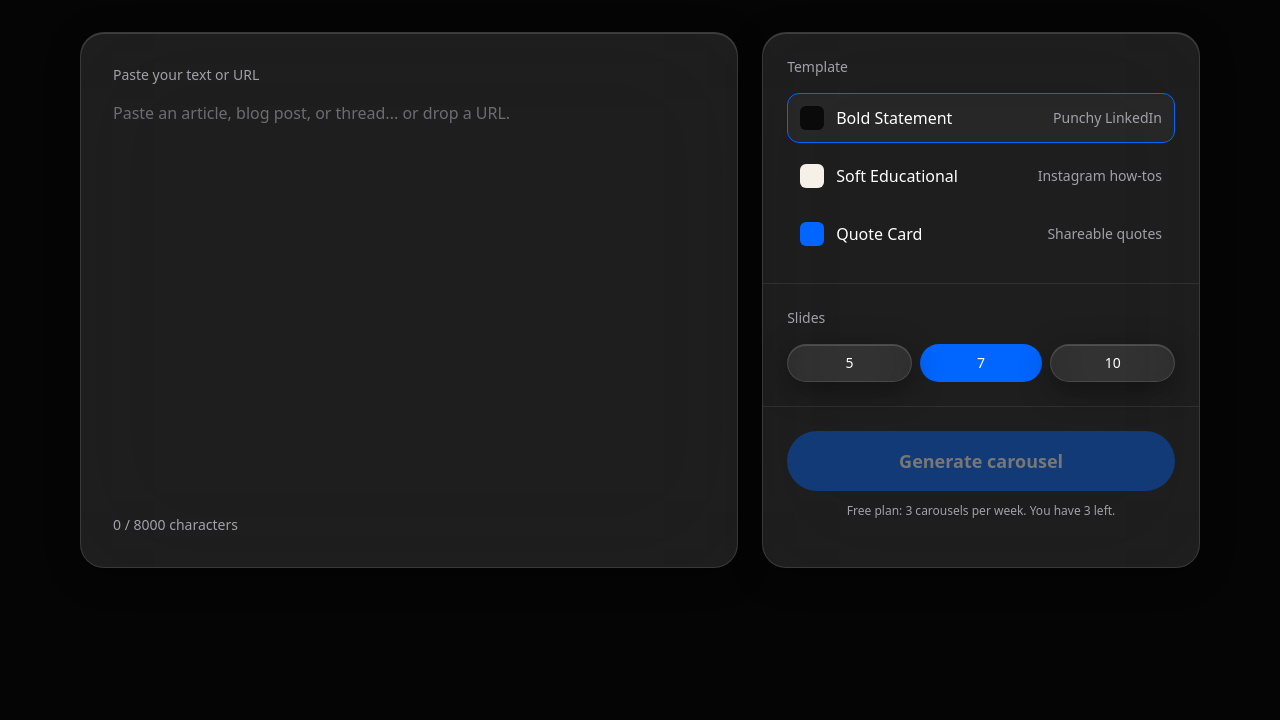
Test: Creator — /app UI wiring › Clear shows only when there's text, and empties the field
This screenshot has width=1280, height=720.
Check: the text "Clear" is not shown
Type "some text" into the text box with placeholder "Paste an article, blog post, or thread... or drop a URL." at (409, 301), box [113,101,705,501]
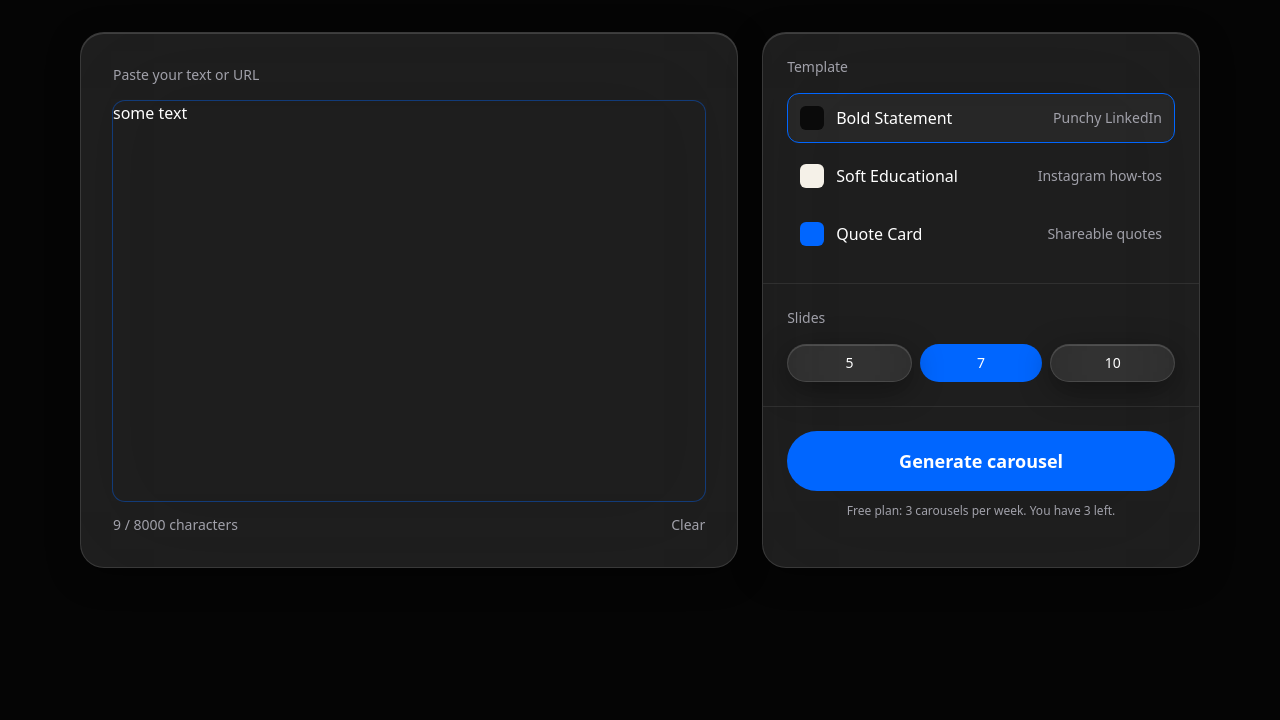
Check: the button "Clear" is shown
Click the button "Clear" at (688, 525), box [671,515,705,535]
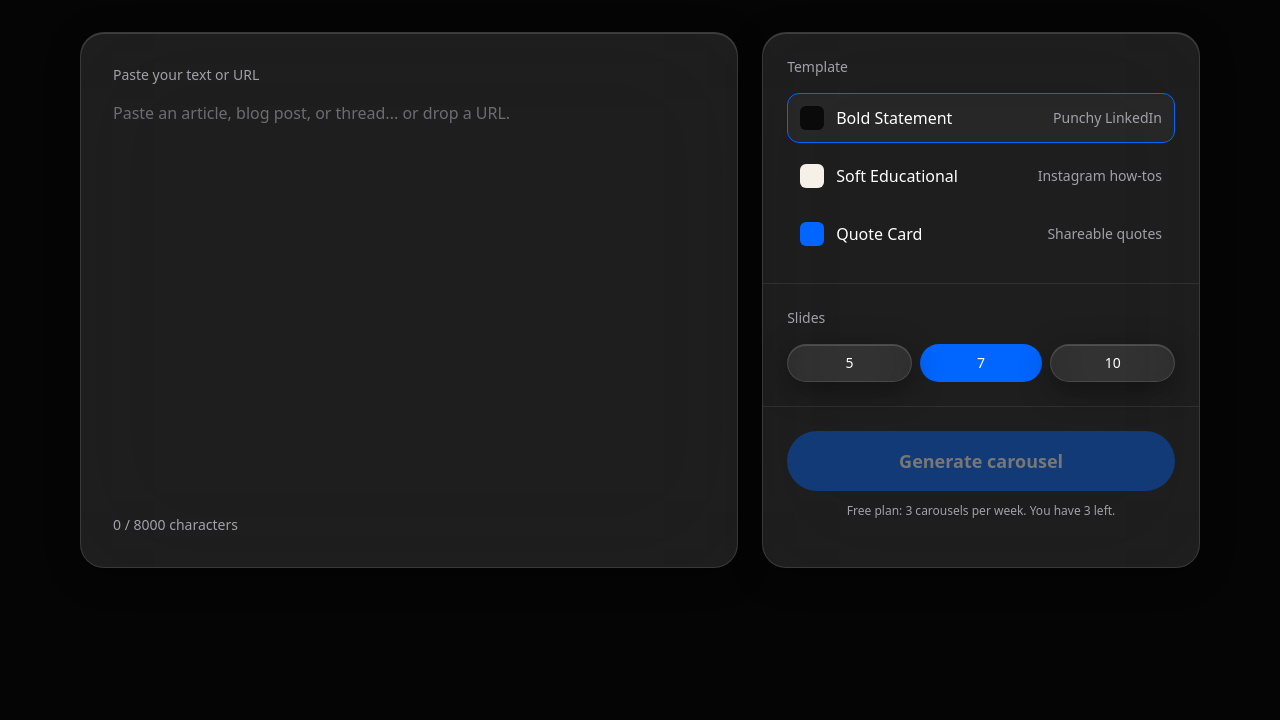
Check: the text box with placeholder "Paste an article, blog post, or thread... or drop a URL." is empty, box [113,101,705,501]
Check: the button "Clear" is gone
Check: the text "0 / 8000 characters" is shown, box [113,515,238,535]
